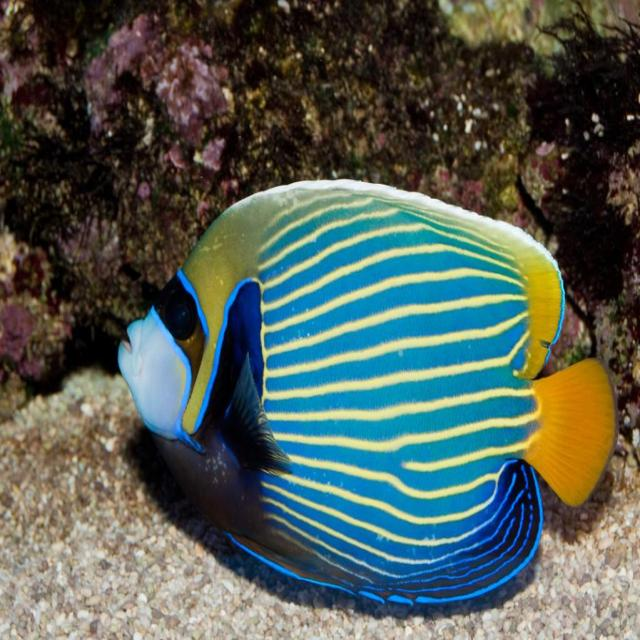AngelFish: (117, 182, 621, 609)
